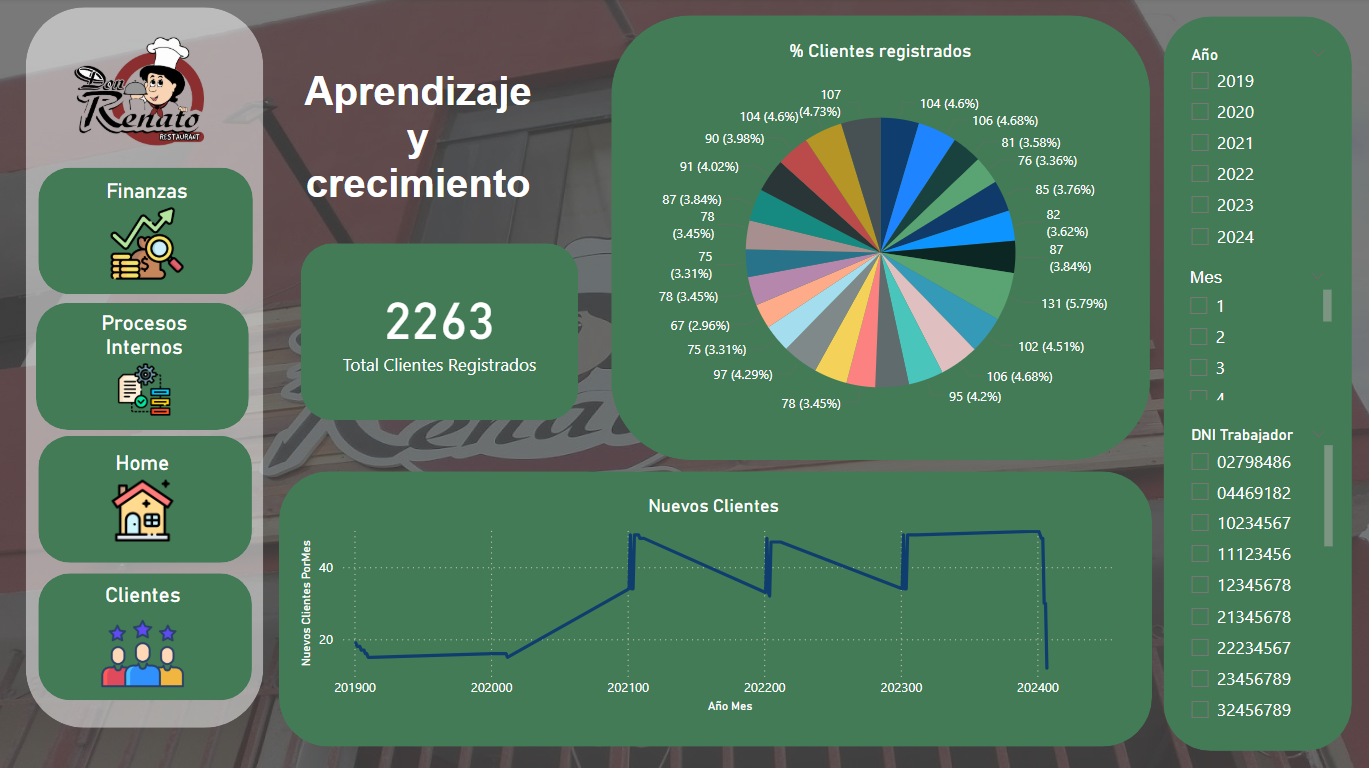

The dashboard page shown, as its layout file describes it:
{"tool":"powerbi","page":{"name":"Aprendizaje y crecimiento","canvas":[1280,720],"ordinal":3},"visuals":[{"type":"shape","box":[282.5,228.8,258.8,165],"z":0},{"type":"shape","box":[262.1,440.9,813.3,256.7],"z":1000},{"type":"shape","box":[572.2,15.6,502.2,414.4],"z":2000},{"type":"shape","box":[1087,17.1,175.6,684.4],"z":3000},{"type":"shape","box":[27.1,8.6,221.4,671.4],"z":4000},{"type":"slicer","fields":{"Values":["Calentadario.Año"]},"box":[1099.9,39.6,149.9,205.6],"z":5000},{"type":"card","title":"Contego de clientes registrados","fields":{"Values":["Medidas.TotalClientesRegistrados"]},"box":[310,251.2,205,108.8],"z":6000},{"type":"image","box":[42.9,8.6,185.7,151.4],"z":7000},{"type":"shape","box":[37.9,158.3,200,118.2],"z":8000},{"type":"shape","box":[38.5,407.7,199.2,118.5],"z":9000},{"type":"image","title":"Finanzas","box":[91.4,167.1,95.7,100],"z":10000},{"type":"shape","box":[36.2,283.8,198.5,118.5],"z":11000},{"type":"image","title":"Procesos Internos","box":[67.1,291.6,140,102.7],"z":12000},{"type":"shape","box":[38.5,536.2,199.2,118.5],"z":13000},{"type":"image","title":"Clientes","box":[69.2,543.8,133.1,110.8],"z":14000},{"type":"image","title":"Home","box":[87.1,421.4,95.7,90],"z":15000},{"type":"slicer","fields":{"Values":["Dim_cliente.idTrabajador"]},"box":[1099.9,394.1,149.9,289.2],"z":16000},{"type":"lineChart","title":"Nuevos Clientes","fields":{"Y":["Medidas.Nuevos Clientes PorMes"],"Category":["Calentadario.AñoMes"]},"box":[277.6,463.1,780,206.7],"z":17000},{"type":"slicer","fields":{"Values":["Calentadario.Mes"]},"box":[1098.9,245.6,150,134.4],"z":18000},{"type":"textbox","box":[268.9,61.1,246.7,145.6],"z":19000},{"type":"pieChart","title":"% Clientes registrados","fields":{"Y":["Medidas.Total Clientes Registrados"],"Series":["Dim_trabajador.nombre"]},"box":[581.1,40,484.4,375.6],"z":20000}]}

Visuals, with their boxes in screenshot pixels (x1, y1, x2, y2), scaled from the page's 1280x720 canvas onto the 1369x768 screenshot:
shape: 302:244:579:420
shape: 280:470:1150:744
shape: 612:17:1149:459
shape: 1163:18:1350:748
shape: 29:9:266:725
slicer - Calentadario.Año: 1176:42:1337:262
"Contego de clientes registrados" card: 332:268:551:384
image: 46:9:244:171
shape: 41:169:254:295
shape: 41:435:254:561
"Finanzas" image: 98:178:200:285
shape: 39:303:251:429
"Procesos Internos" image: 72:311:221:421
shape: 41:572:254:698
"Clientes" image: 74:580:216:698
"Home" image: 93:449:196:545
slicer - Dim_cliente.idTrabajador: 1176:420:1337:729
"Nuevos Clientes" lineChart: 297:494:1131:714
slicer - Calentadario.Mes: 1175:262:1336:405
textbox: 288:65:551:220
"% Clientes registrados" pieChart: 622:43:1140:443
